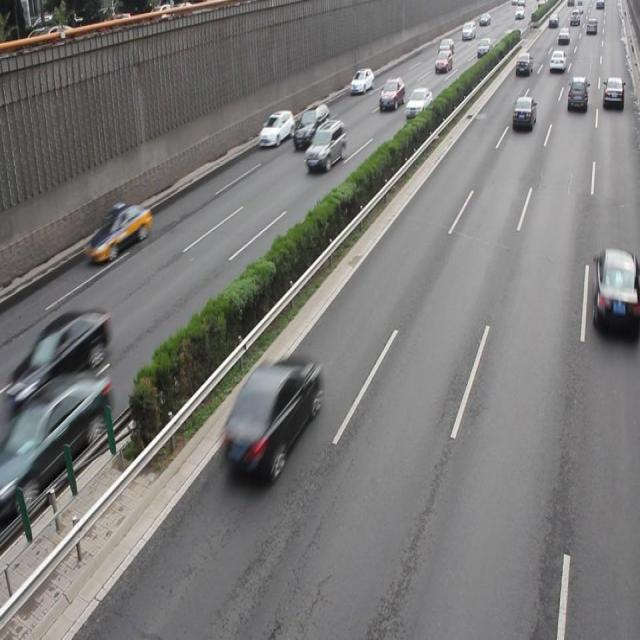car: (1, 369, 111, 520), (223, 354, 323, 476), (10, 305, 111, 405), (590, 246, 640, 328), (86, 201, 152, 262), (304, 118, 346, 170), (293, 102, 329, 148), (258, 110, 294, 148), (511, 95, 535, 135), (404, 87, 431, 119)
